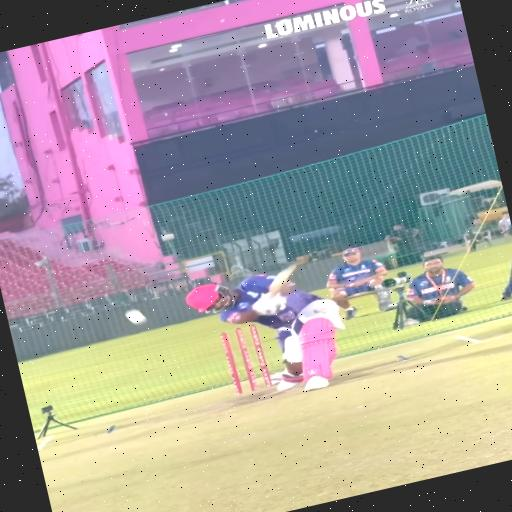Cricket bat: (268, 264, 296, 296)
